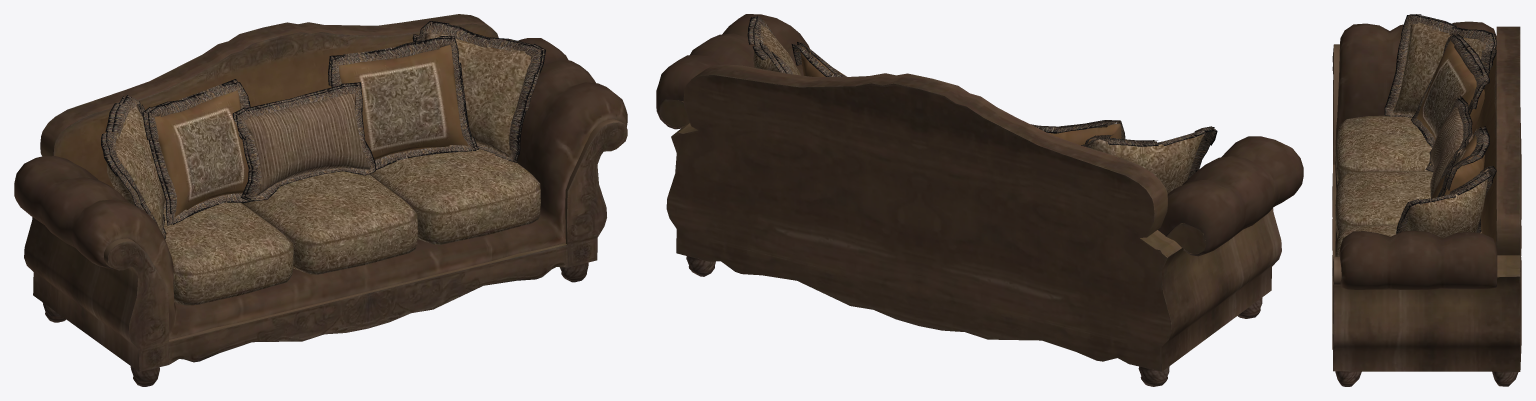
The model's file is sofa_03.glb.
3 renders of one model, left to right at view 1: azimuth 30°, elevation 25°; view 2: azimuth 150°, elevation 25°; view 3: azimuth 270°, elevation 25°, orthographic. The views are drawn at different scales.
Visible parts, largest first — view 1: sofa_03; view 2: sofa_03; view 3: sofa_03.
Boxes of the visible parts, x1,y1,x2,y2 form: sofa_03: [14, 14, 627, 386]; sofa_03: [656, 14, 1303, 386]; sofa_03: [1332, 14, 1521, 386].
Bounding box in the file's own units: 2.73 × 1.12 × 0.9251.
Materials: 2 (2 with a texture image).
